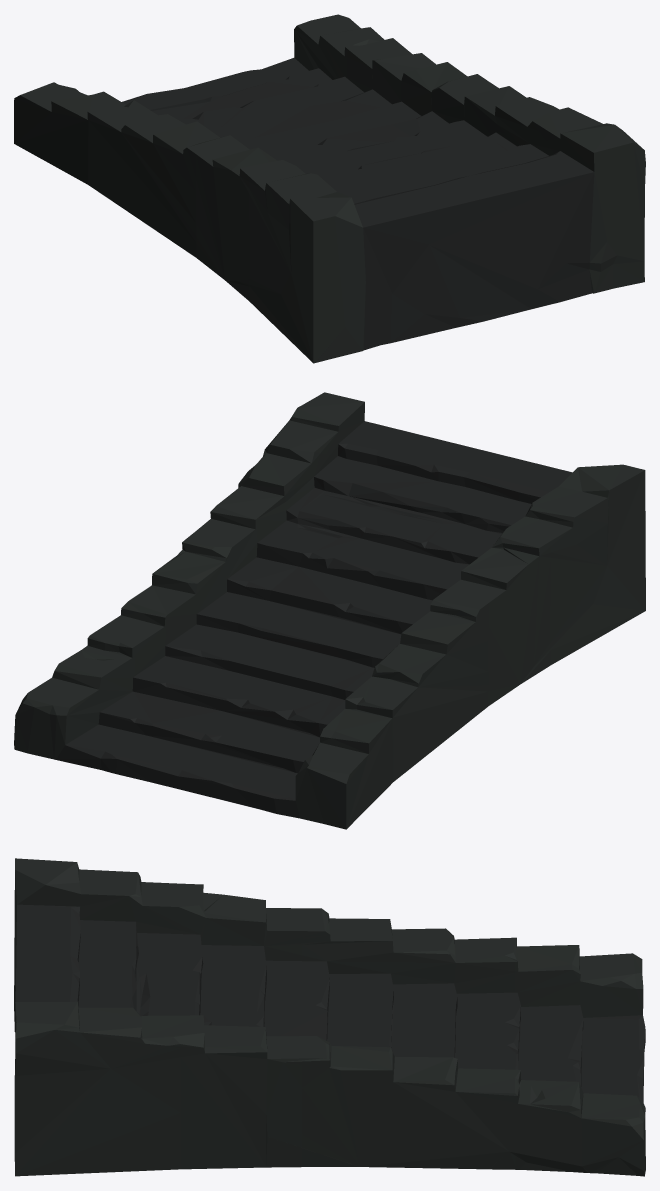
Rendered from Stairs.FBX.
The picture shows the model from 3 angles, top to bottom: view 1: azimuth 30°, elevation 25°; view 2: azimuth 150°, elevation 25°; view 3: azimuth 270°, elevation 25°; orthographic projection. The views are drawn at different scales.
Parts seen in each view (by area): view 1: Stairs; view 2: Stairs; view 3: Stairs.
Boxes of the visible parts, x1,y1,x2,y2 form: Stairs: (14, 14, 645, 363); Stairs: (14, 392, 645, 829); Stairs: (14, 858, 645, 1176).
Bounding box in the file's own units: 3.96 × 1.61 × 6.21.
